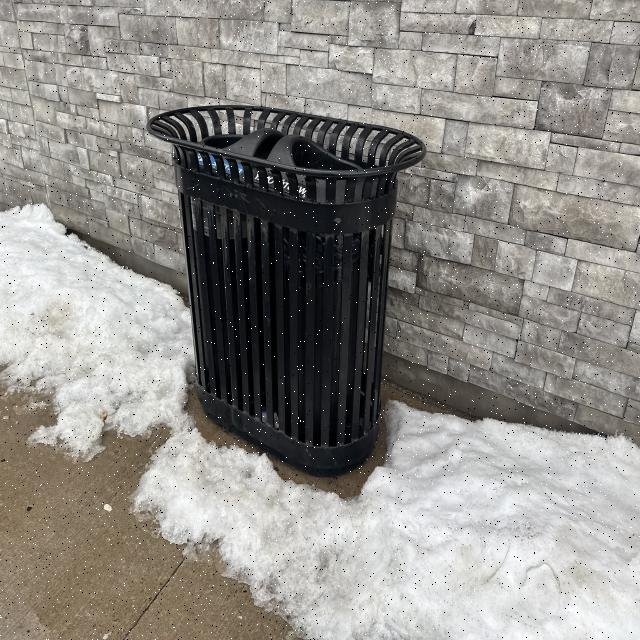Dustbin: (143, 106, 425, 482)
